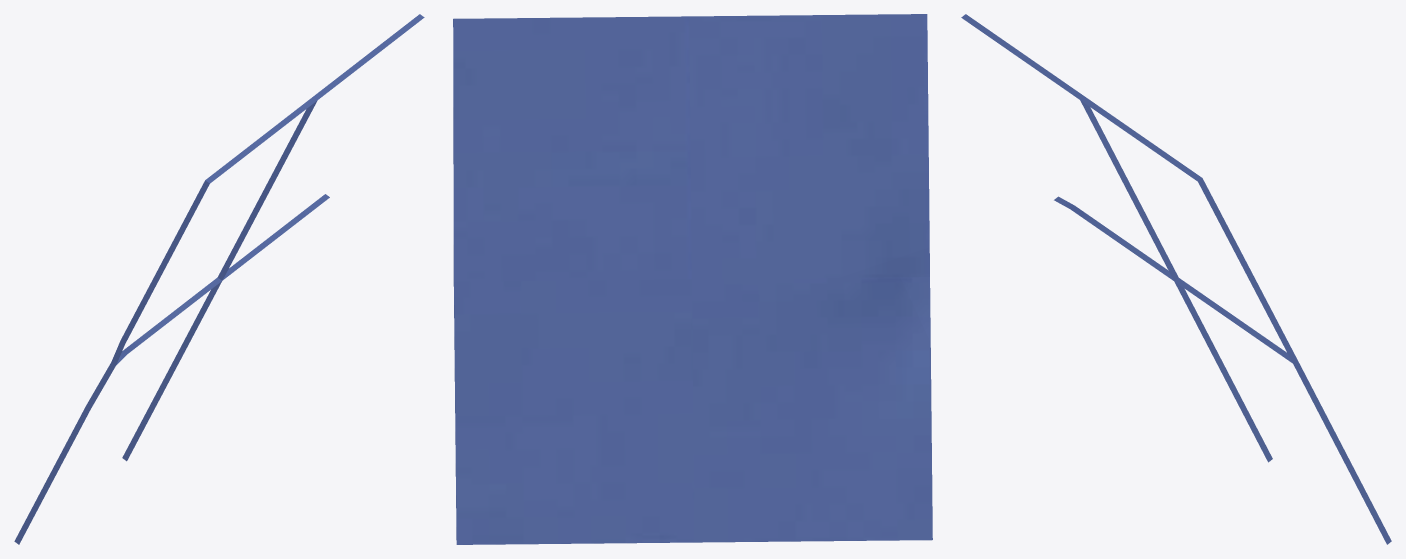
3 renders of one model, left to right at view 1: azimuth 30°, elevation 25°; view 2: azimuth 150°, elevation 25°; view 3: azimuth 270°, elevation 25°, orthographic. The views are drawn at different scales.
Size of the model in its own units: 19661 by 17737 by 16743.
Materials: 1 (1 with a texture image).
